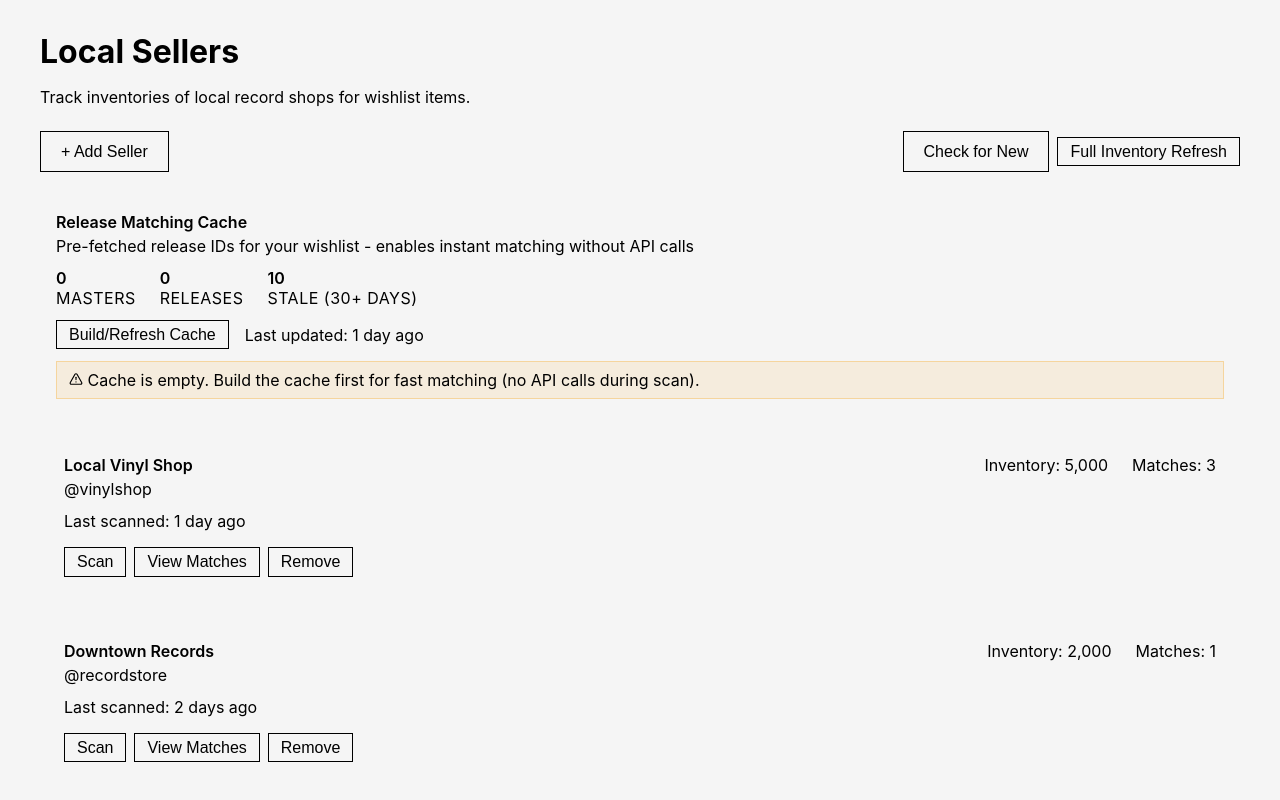
Test: SellersPage › release cache refresh › does not start the pending scan if the refresh fails
Expected: the button "Check for New" is shown, [924, 142, 1028, 161]
Click the button "Check for New" at [976, 152], box [903, 131, 1050, 172]
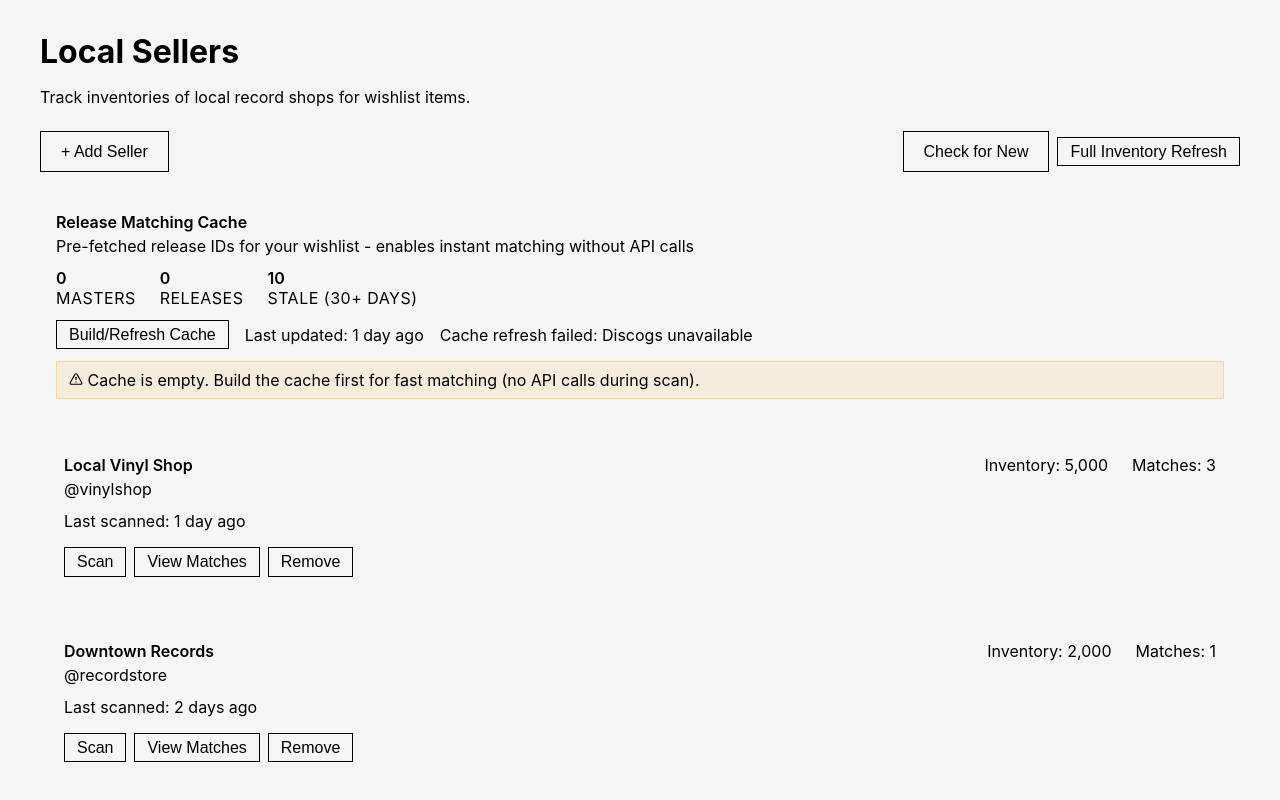
Result: the text "Cache refresh failed: Discogs unavailable" is shown at [440, 325, 753, 345]
